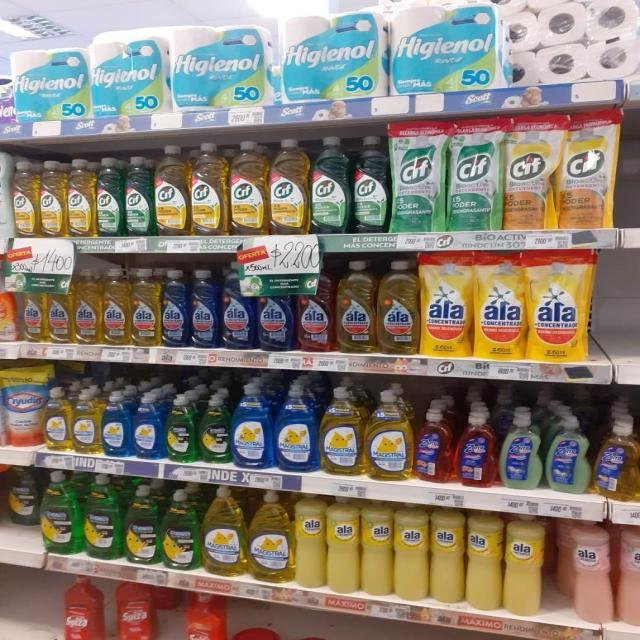ala_conc_amarillo: (377, 259, 419, 356), (336, 259, 376, 355), (131, 268, 160, 347), (102, 267, 130, 346), (73, 268, 101, 345), (20, 271, 47, 344), (48, 269, 73, 344)
ala_conc_azul: (258, 274, 294, 352), (221, 268, 255, 350), (190, 268, 219, 348), (161, 268, 189, 348)
ala_conc_rojo: (297, 261, 334, 353)
ala_crem_amarillo: (504, 512, 547, 617), (466, 509, 502, 612), (394, 501, 429, 602), (430, 504, 465, 604), (326, 495, 358, 594), (360, 498, 392, 597), (294, 493, 325, 589)
ala_crem_rosado: (567, 518, 614, 626), (617, 524, 640, 629)
ala_sachet_amarillo: (528, 249, 591, 362), (474, 250, 526, 360), (421, 250, 472, 358)
ala_ultra_rosa: (0, 271, 17, 341)
cif_conc_bot_amarilla: (270, 138, 308, 235), (230, 140, 268, 236), (190, 142, 228, 236), (154, 144, 189, 237), (67, 158, 95, 238), (39, 160, 66, 238), (12, 159, 38, 238)
cif_conc_botella_verde: (311, 136, 350, 234), (353, 134, 389, 234), (124, 155, 152, 237), (96, 156, 123, 237)
cif_conc_sachet_amarillo: (559, 110, 615, 229), (504, 114, 557, 230)
cif_conc_sachet_verde: (446, 118, 502, 231), (391, 120, 444, 232)
magistral_con_amarillo: (366, 389, 412, 482), (248, 488, 292, 584), (202, 486, 246, 577), (320, 386, 364, 477), (72, 388, 100, 455), (44, 387, 71, 452)
magistral_con_azul: (274, 382, 318, 473), (232, 382, 272, 469), (133, 392, 165, 460), (102, 390, 132, 457)
magistral_con_verde: (40, 470, 81, 555), (84, 473, 122, 560)
zorro: (545, 415, 591, 495), (595, 419, 639, 502), (500, 410, 542, 490), (456, 410, 497, 488), (414, 407, 454, 484)
